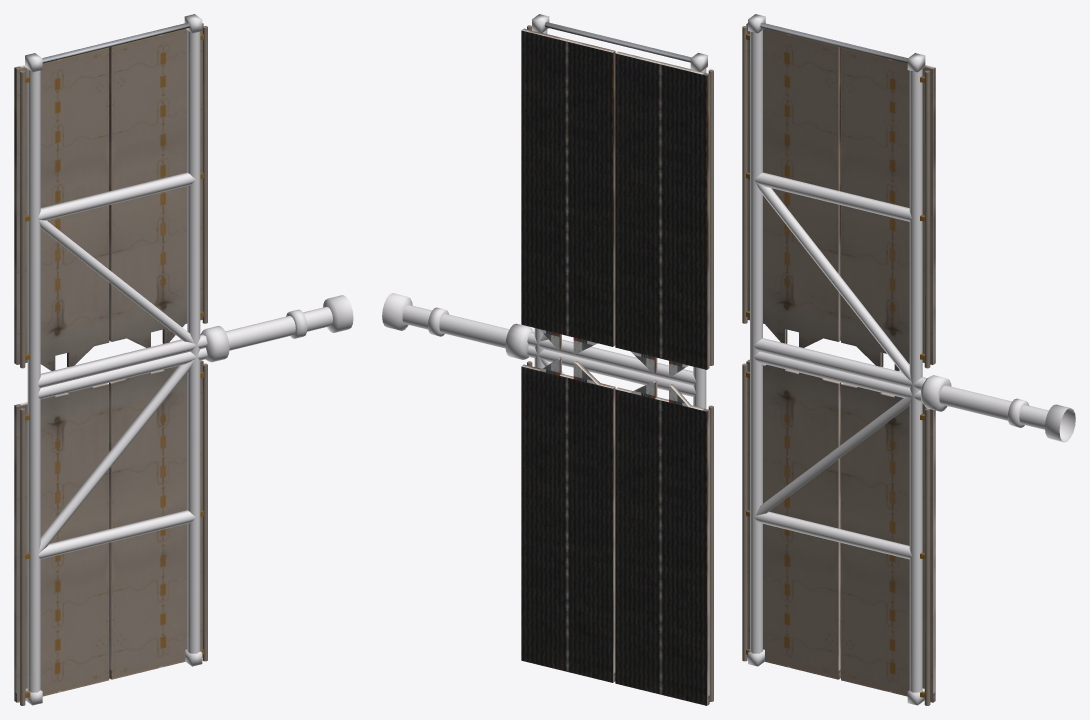
Rendered from hubble-array-left.glb.
The picture shows the model from 3 angles, left to right: view 1: azimuth 30°, elevation 25°; view 2: azimuth 150°, elevation 25°; view 3: azimuth 330°, elevation 25°; orthographic projection.
Visible parts, largest first — view 1: array-left; view 2: array-left; view 3: array-left.
Boxes of the visible parts, x1,y1,x2,y2 form: array-left: (14,14,353,705); array-left: (382,14,713,705); array-left: (742,14,1075,705).
Size of the model in its own units: 3.67 by 6.97 by 0.3164.
Materials: 1 (1 with a texture image).
